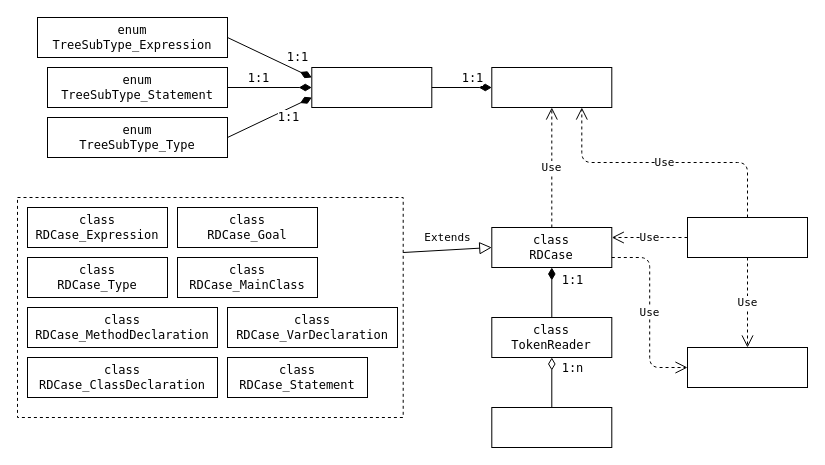
This 825x465 diagram has some shape labels left out. The shapes that lost their labels are listed below. From the top down, each one's centre as x and y in pixels, then its label:
point (371, 87): class TreeType
point (551, 87): class TreeNode
point (747, 237): class SyntaxParser
point (747, 367): class SyntaxError
point (551, 427): class EToken
